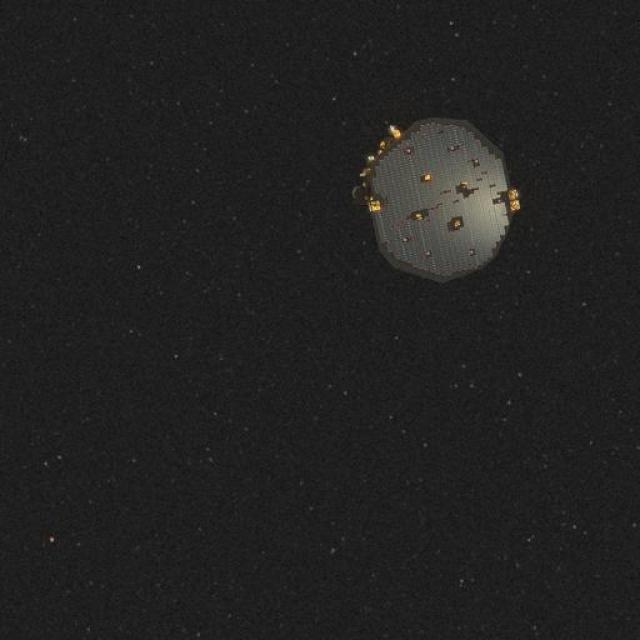lisa_pathfinder: (315, 85, 539, 286)
